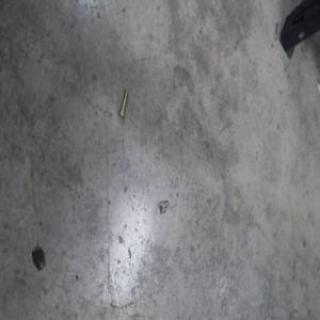Bolttrack_idkeyframe: (117, 86, 128, 118)
